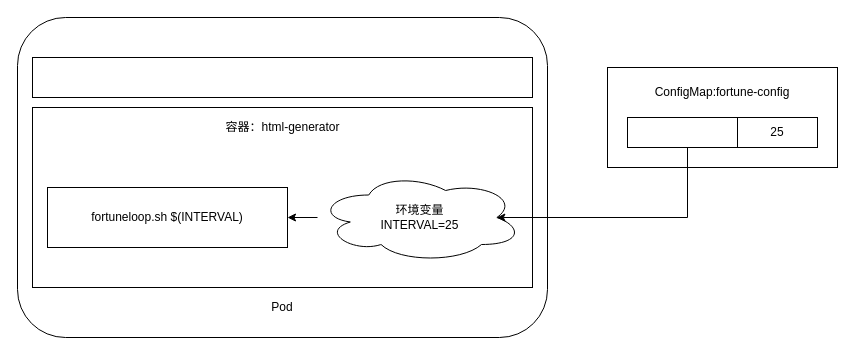
This 855x355 diagram has some shape labels left out. The shapes that lost their labels are listed below. From the top down, each one's centre as x and y in pixels, then its label:
[282,77]: 容器：web-server
[682,132]: sleep-interval
